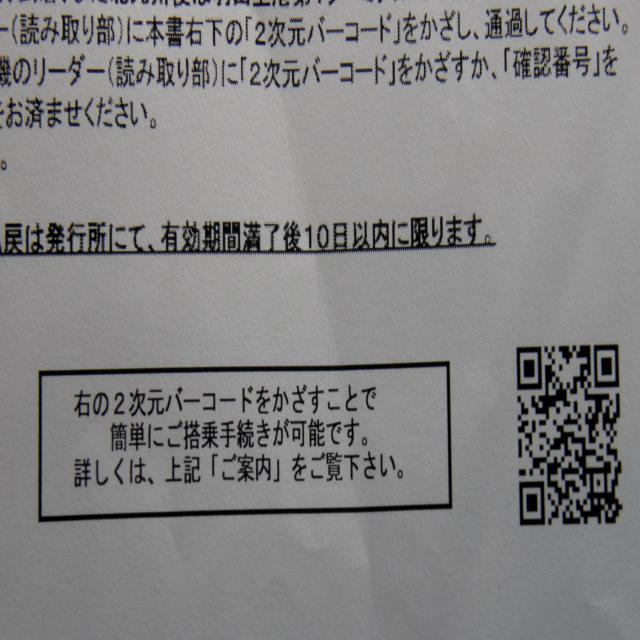qrcode: (517, 345, 624, 526)
